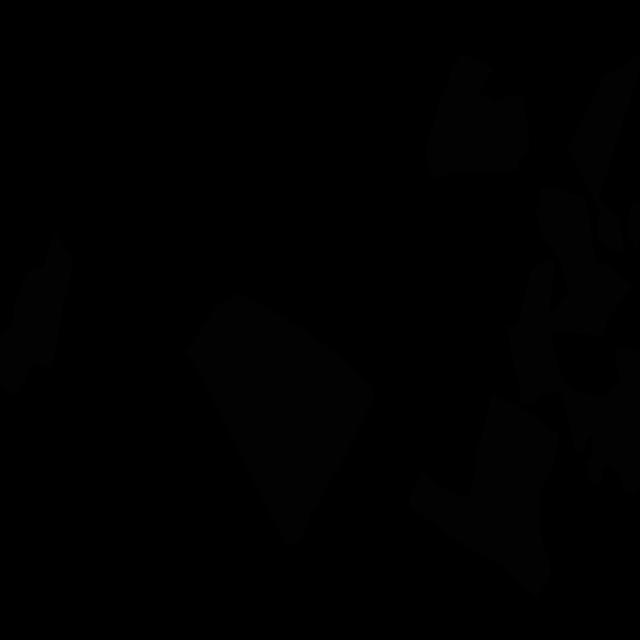cardboard: (184, 292, 374, 548), (506, 187, 640, 494), (409, 396, 560, 598), (567, 52, 640, 253), (426, 55, 530, 179), (0, 235, 72, 394), (627, 201, 640, 253)
